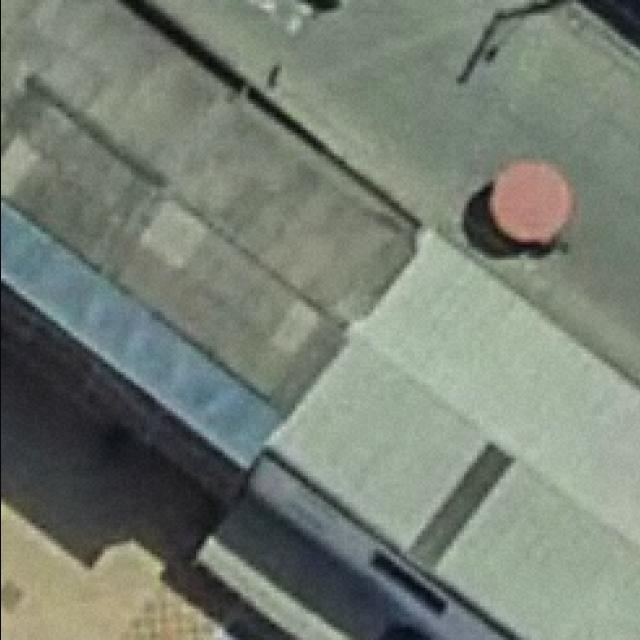vendedor_ambulante: (477, 151, 583, 255)
